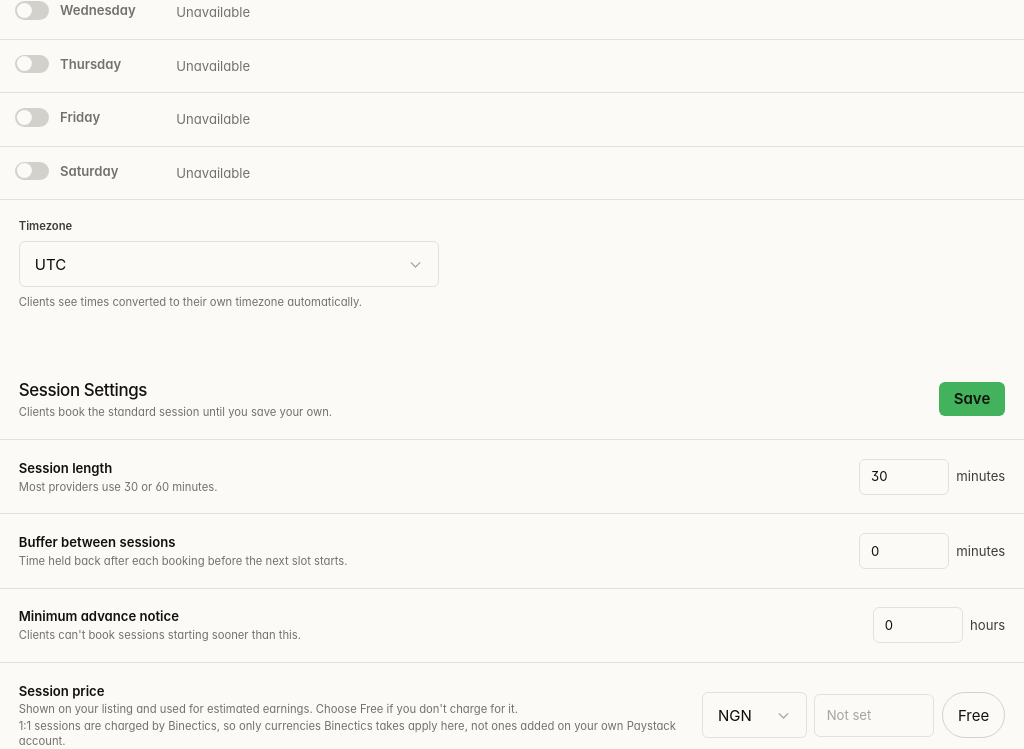
ConsultationAvailabilityManager, session price round-trip › rejects a price of exactly 0 out loud instead of dropping it
(page scrolled)
Step 1. Type "0" into the field named "Session price" → (874, 715), box x1=814 y1=694 x2=934 y2=737
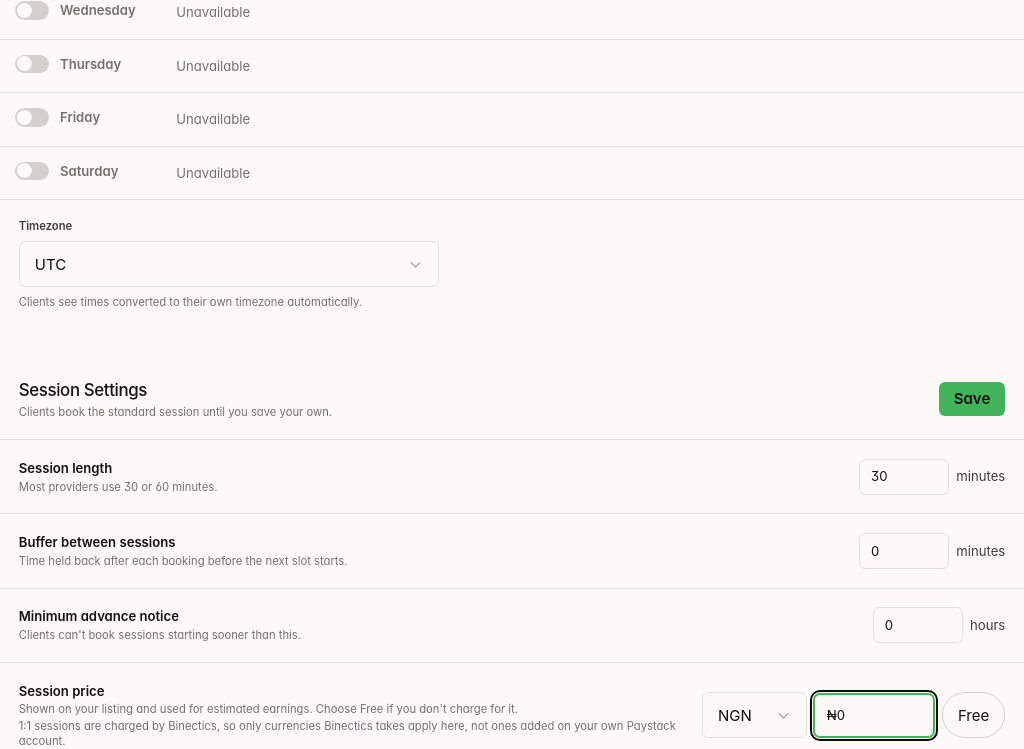
Now the field named "Session price" holds "₦0", box x1=814 y1=694 x2=934 y2=737
Step 2. Click the button "Save" → (972, 399), box x1=939 y1=382 x2=1005 y2=416
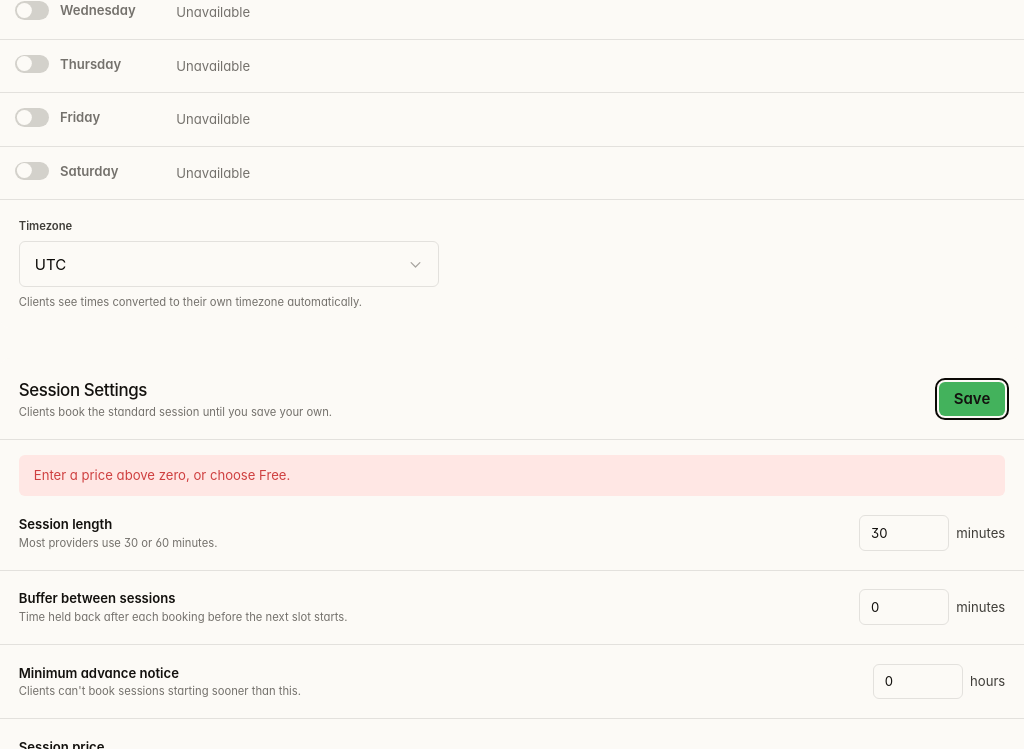
Now the text "Enter a price above zero, or choose Free." is shown, box x1=19 y1=455 x2=1005 y2=496
